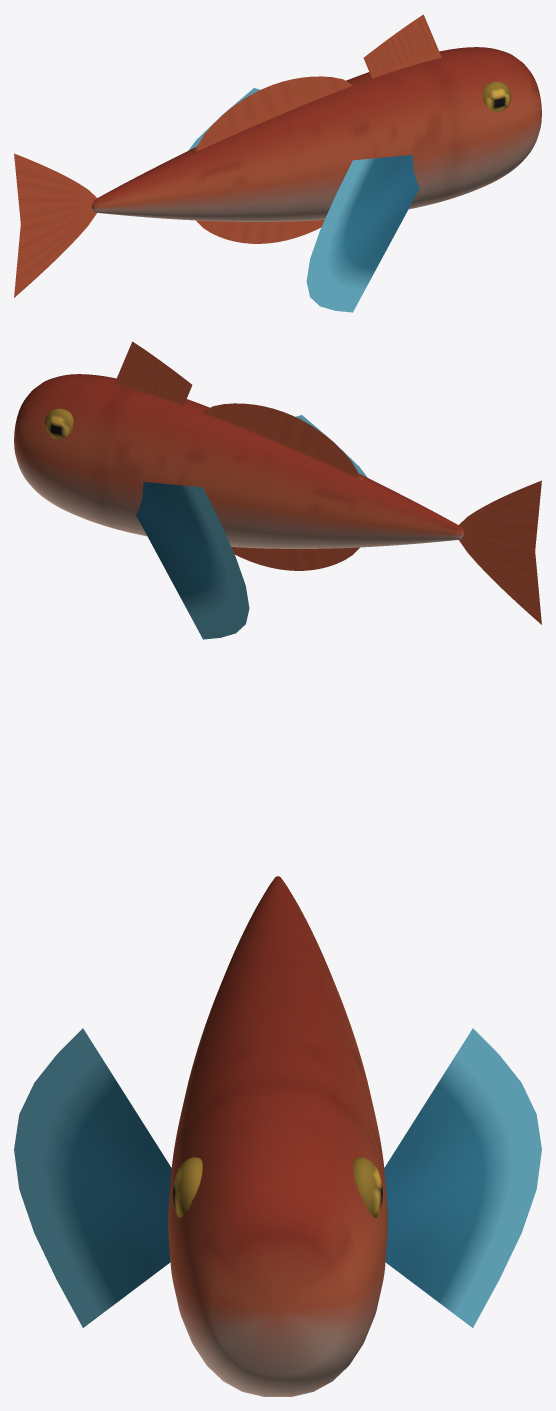
File: kirlangic.glb
3 renders of one model, top to bottom at view 1: azimuth 30°, elevation 25°; view 2: azimuth 150°, elevation 25°; view 3: azimuth 270°, elevation 25°, orthographic. The views are drawn at different scales.
Visible parts, largest first — view 1: kirlangic_govde, kirlangic_gogusL, kirlangic_kuyruk, kirlangic_sirt2, kirlangic_sirt, kirlangic_anal_a, kirlangic_gozL; view 2: kirlangic_govde, kirlangic_gogusR, kirlangic_kuyruk, kirlangic_sirt2, kirlangic_sirt, kirlangic_anal_a, kirlangic_gozR; view 3: kirlangic_govde, kirlangic_gogusL, kirlangic_gogusR, kirlangic_gozL, kirlangic_gozR.
Part boxes in pixels (bbox=[...]): kirlangic_govde: bbox=[91, 47, 541, 221]; kirlangic_gogusL: bbox=[306, 155, 419, 312]; kirlangic_kuyruk: bbox=[14, 153, 97, 297]; kirlangic_sirt2: bbox=[192, 76, 352, 153]; kirlangic_sirt: bbox=[363, 14, 441, 78]; kirlangic_anal_a: bbox=[196, 220, 324, 243]; kirlangic_gozL: bbox=[482, 81, 511, 112]; kirlangic_govde: bbox=[14, 374, 464, 548]; kirlangic_gogusR: bbox=[136, 482, 249, 639]; kirlangic_kuyruk: bbox=[458, 480, 541, 624]; kirlangic_sirt2: bbox=[203, 403, 363, 480]; kirlangic_sirt: bbox=[114, 341, 192, 405]; kirlangic_anal_a: bbox=[231, 547, 359, 570]; kirlangic_gozR: bbox=[44, 408, 73, 439]; kirlangic_govde: bbox=[168, 876, 387, 1396]; kirlangic_gogusL: bbox=[14, 1028, 171, 1327]; kirlangic_gogusR: bbox=[384, 1028, 541, 1327]; kirlangic_gozL: bbox=[173, 1157, 202, 1217]; kirlangic_gozR: bbox=[353, 1157, 382, 1217].
Size of the model in its own units: 0.975 by 0.4179 by 0.4359.
